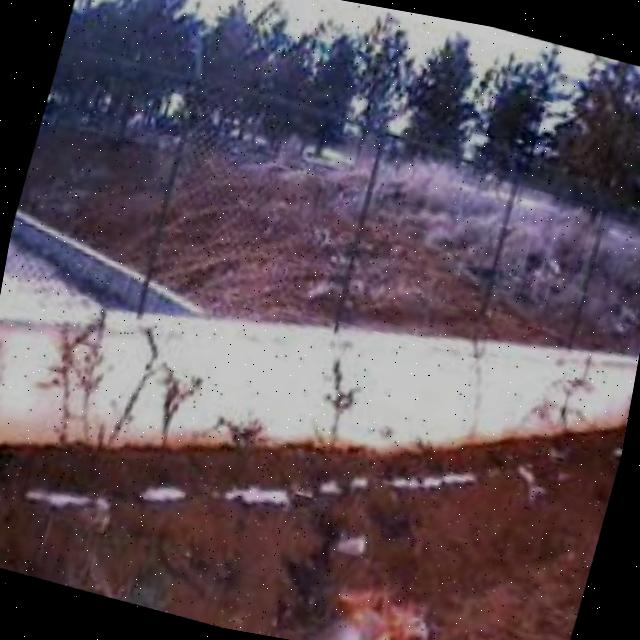fire: (323, 564, 446, 640)
